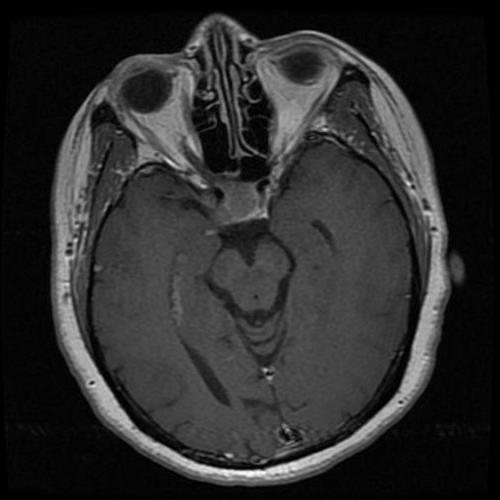Tumour-Pituitary: (206, 183, 271, 229)
